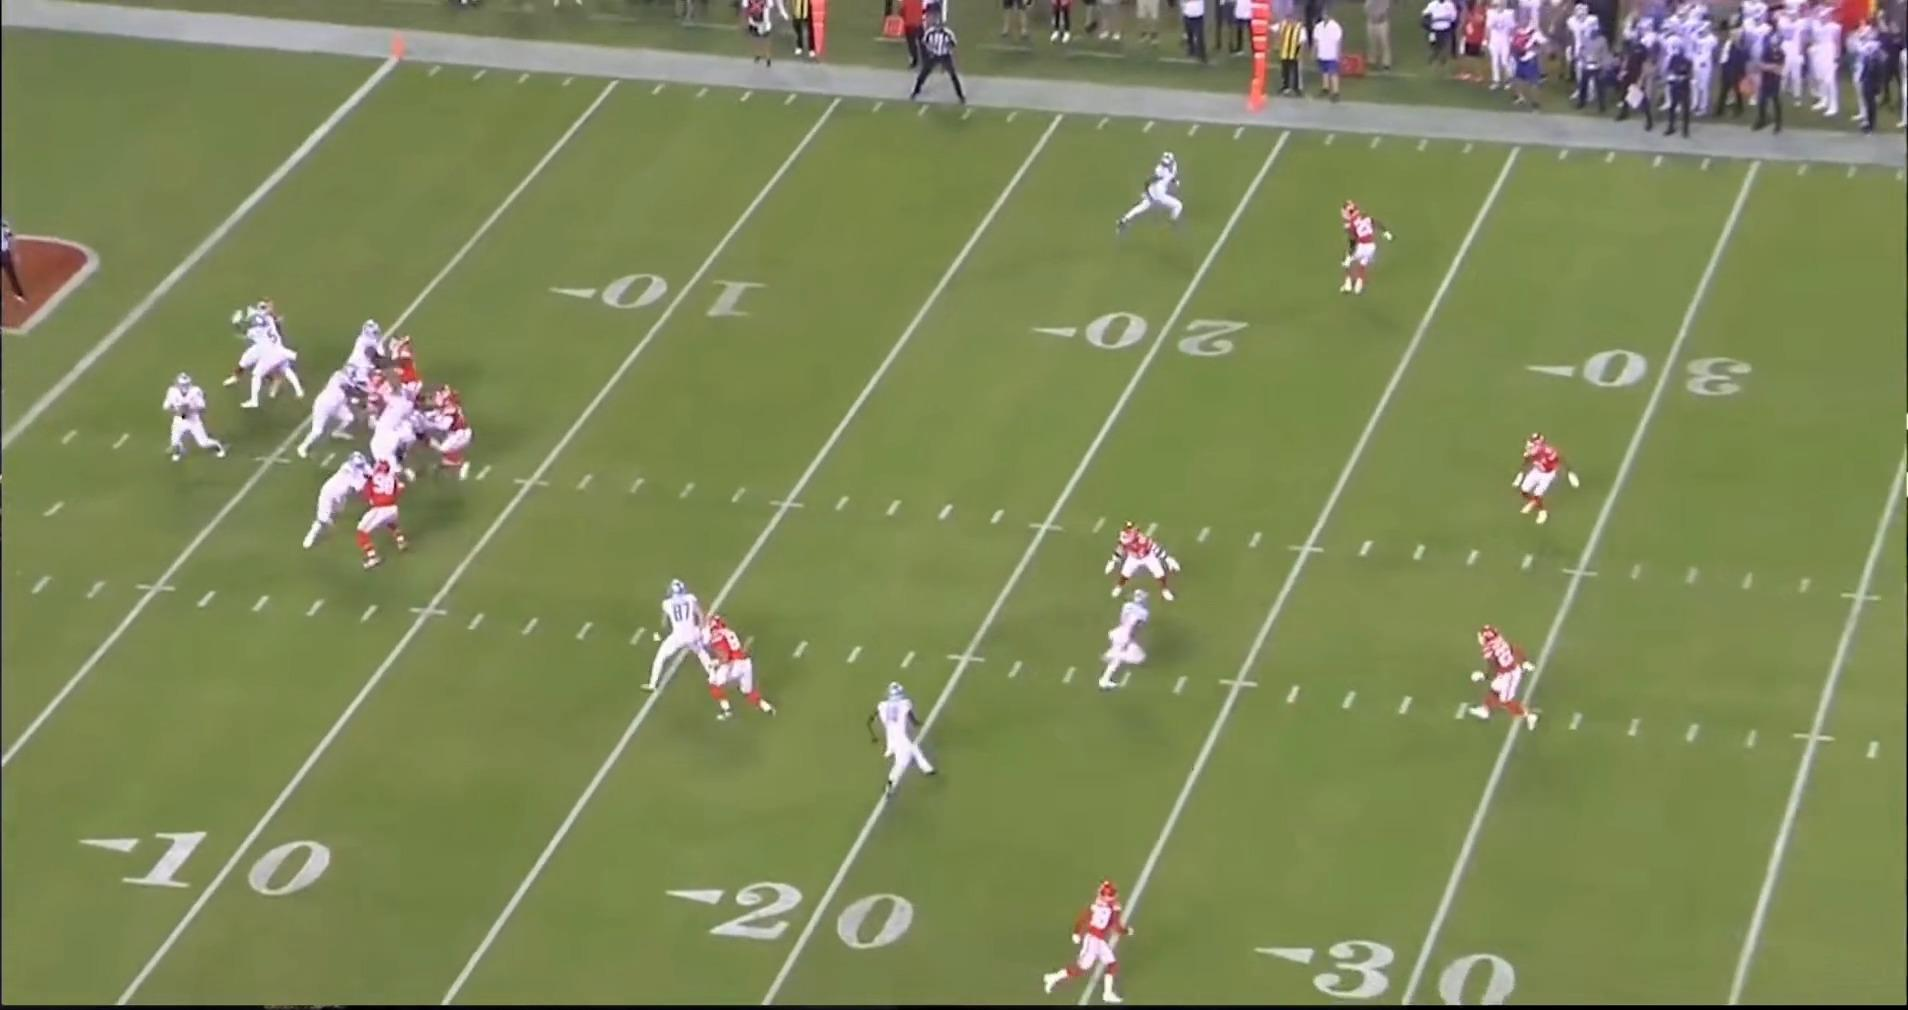defense: (1045, 882, 1144, 1004), (702, 615, 779, 726), (1461, 625, 1536, 735), (1099, 519, 1178, 606), (1510, 428, 1577, 527), (350, 460, 409, 566), (225, 295, 292, 384), (1340, 202, 1394, 301), (427, 392, 479, 482), (378, 329, 424, 404), (356, 370, 399, 414)
oline: (288, 361, 366, 458), (294, 458, 367, 561), (370, 409, 436, 486), (367, 386, 424, 454), (347, 318, 390, 385)
qb: (162, 371, 232, 465)
ref: (913, 14, 979, 104), (0, 199, 29, 308)
skill: (646, 582, 721, 701), (862, 681, 935, 799), (238, 313, 308, 413), (1110, 149, 1184, 238), (1091, 594, 1151, 697)
